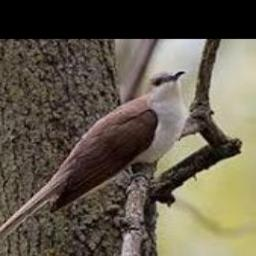Cuckoo: (0, 70, 186, 256)
